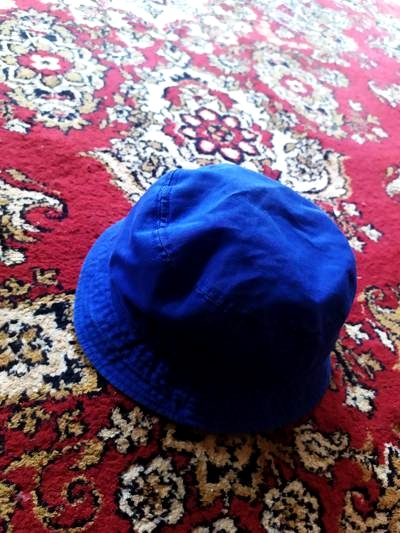Hat: (74, 114, 349, 435)
